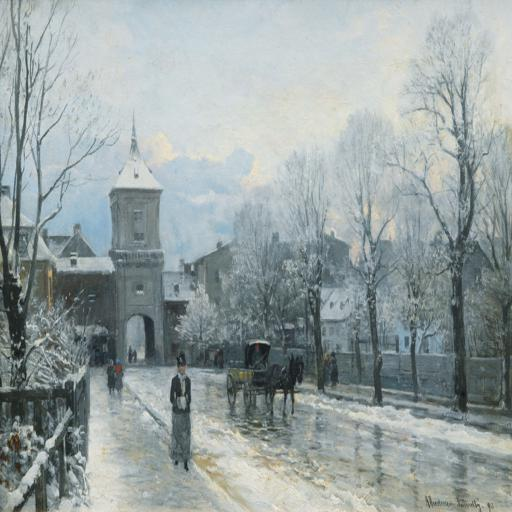Horse: (264, 351, 303, 413)
